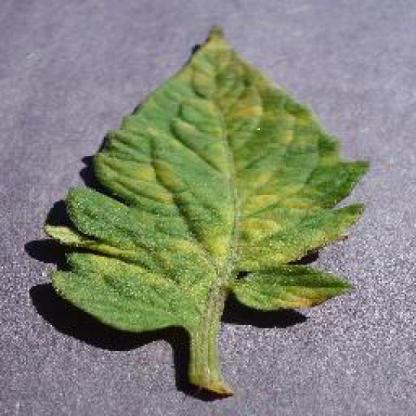Tomato_Leaf_Mold: (46, 25, 369, 334)
